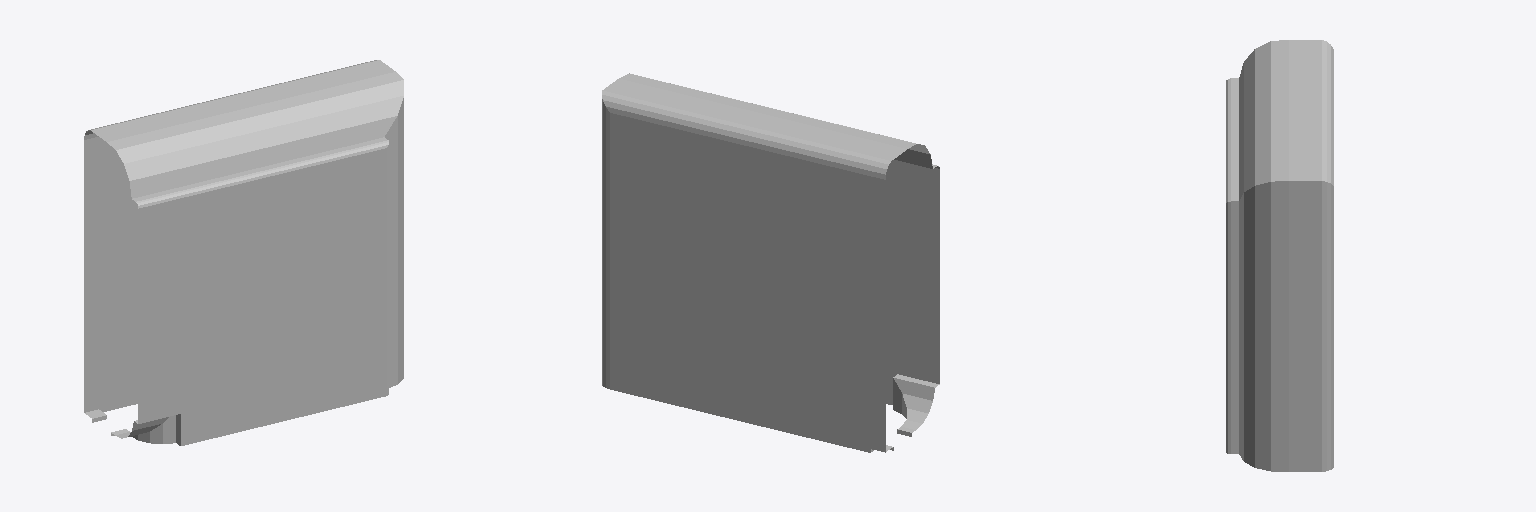
Rendered from original-34.obj.
The picture shows the model from 3 angles: view 1: azimuth 30°, elevation 25°; view 2: azimuth 150°, elevation 25°; view 3: azimuth 270°, elevation 25°; orthographic projection.
Visible parts, largest first — view 1: DF_12_TR1/DF_12_TR/mesh22/mesh22-geometry#mesh22-geometry; view 2: DF_12_TR1/DF_12_TR/mesh22/mesh22-geometry#mesh22-geometry; view 3: DF_12_TR1/DF_12_TR/mesh22/mesh22-geometry#mesh22-geometry.
Part boxes in pixels (x1,y1,x2,y2): DF_12_TR1/DF_12_TR/mesh22/mesh22-geometry#mesh22-geometry: (84,60,403,445); DF_12_TR1/DF_12_TR/mesh22/mesh22-geometry#mesh22-geometry: (602,73,939,452); DF_12_TR1/DF_12_TR/mesh22/mesh22-geometry#mesh22-geometry: (1226,40,1333,471).
Bounding box in the file's own units: 0.1004 × 0.0966 × 0.0327.